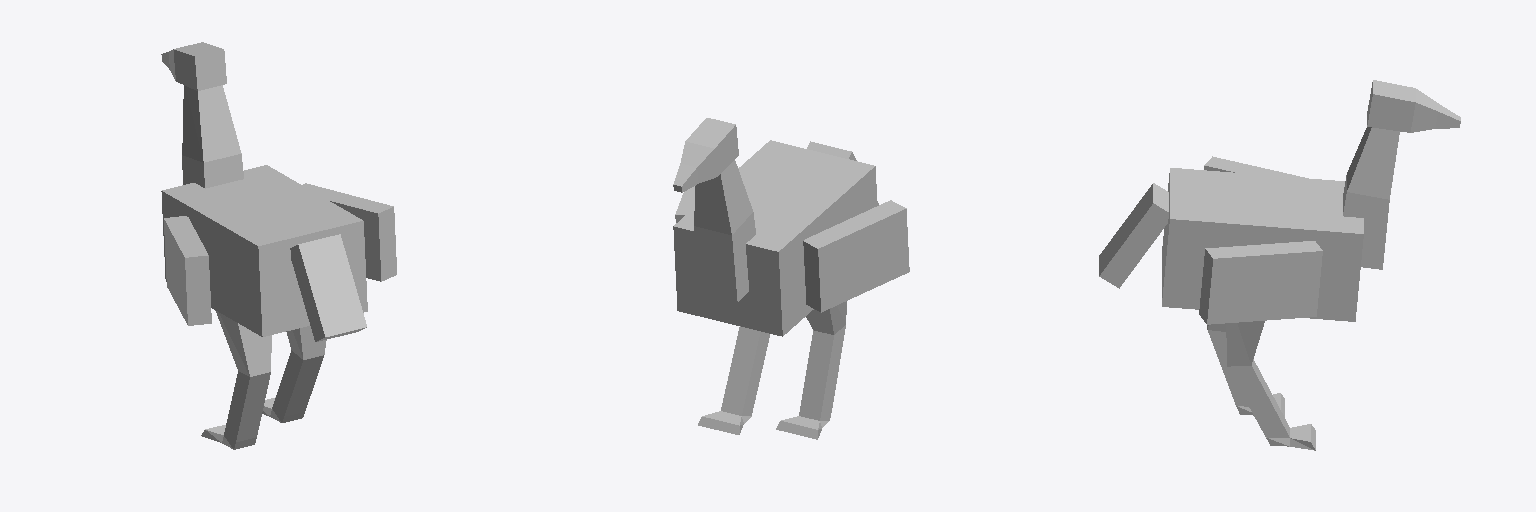
The model's file is Ostrich_000103.obj.
The picture shows the model from 3 angles: view 1: azimuth 30°, elevation 25°; view 2: azimuth 150°, elevation 25°; view 3: azimuth 270°, elevation 25°; orthographic projection.
Parts seen in each view (by area): view 1: Cube_Cube.001; view 2: Cube_Cube.001; view 3: Cube_Cube.001.
Part boxes in pixels (x1,y1,x2,y2): Cube_Cube.001: (161, 42, 396, 449); Cube_Cube.001: (673, 118, 909, 439); Cube_Cube.001: (1099, 80, 1460, 450).
Bounding box in the file's own units: 0.995 × 1.53 × 1.49.